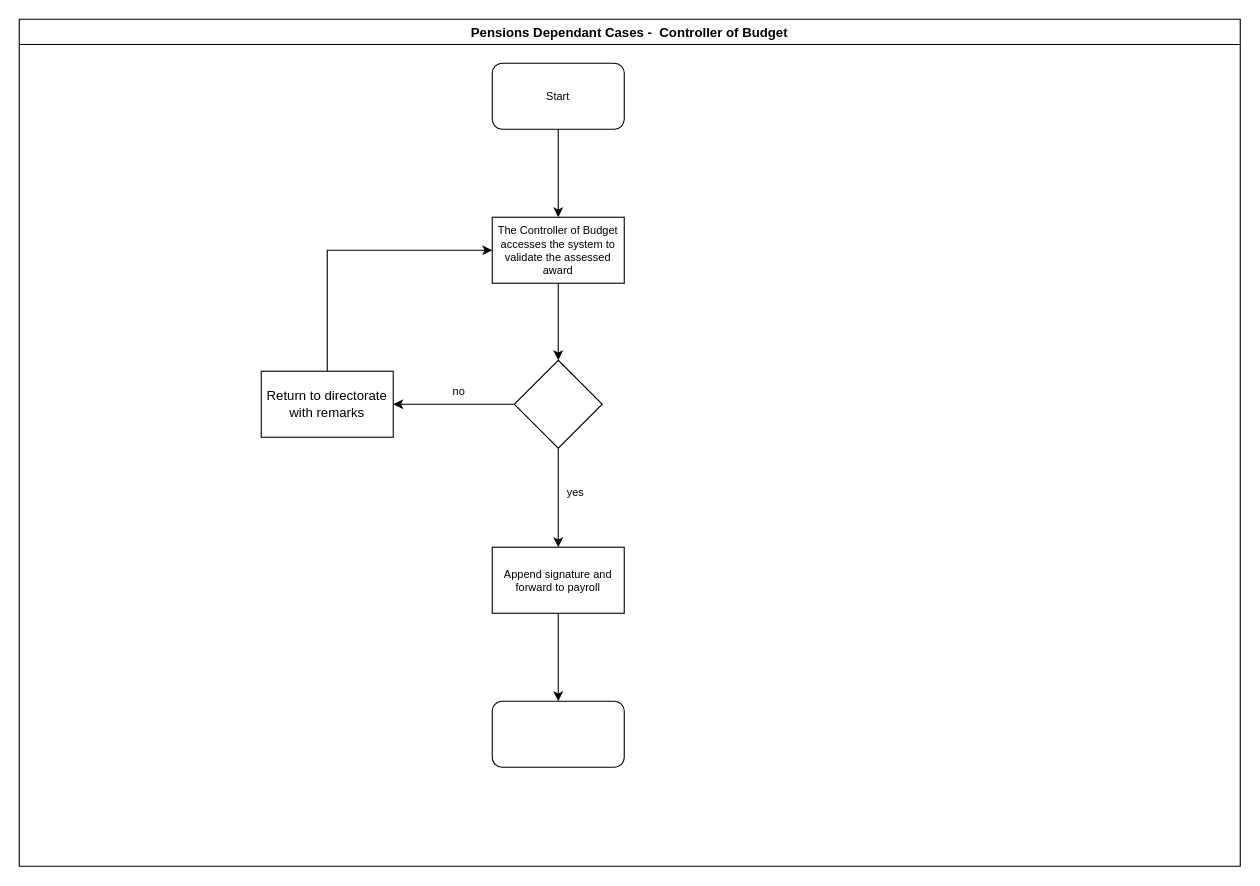
This 1260x886 diagram has some shape labels left out. Each missing label, with the centre of its shape:
"Approved?" goes at (557,403).
"End" goes at (557,733).
